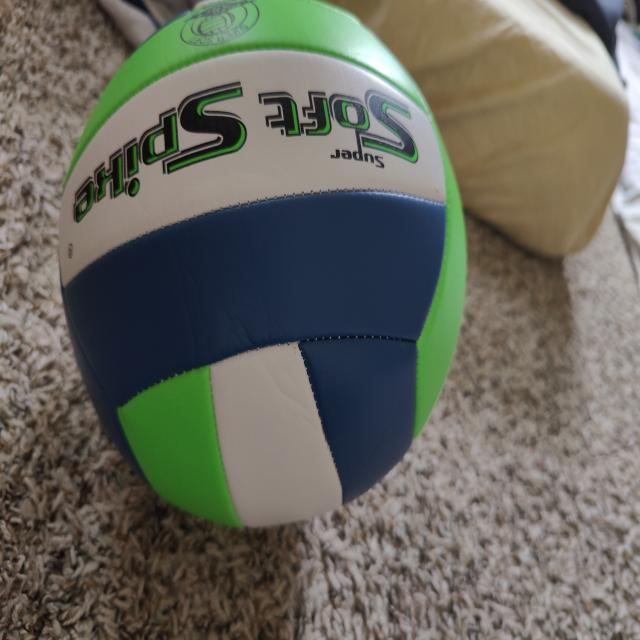ball: (54, 1, 468, 532)
